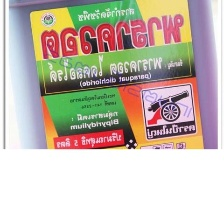insecticide: (26, 0, 206, 195)
